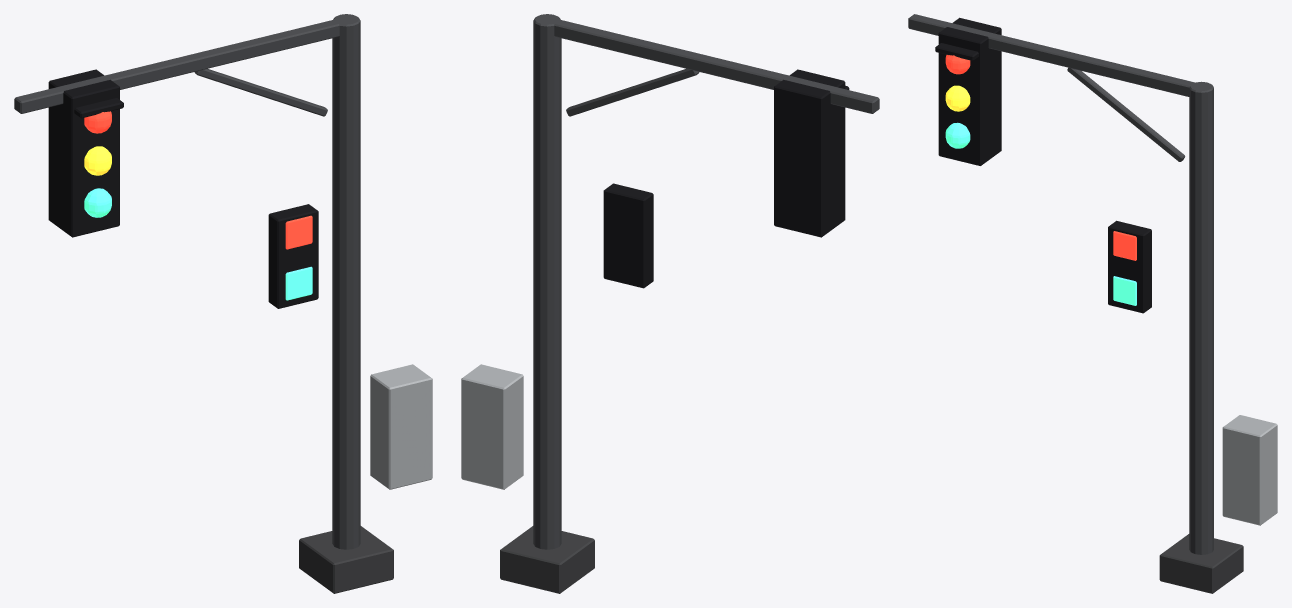
File: PRP_TrafficLight_ML_v001.glb
The picture shows the model from 3 angles, left to right: view 1: azimuth 30°, elevation 25°; view 2: azimuth 150°, elevation 25°; view 3: azimuth 330°, elevation 25°; orthographic projection. The views are drawn at different scales.
Visible parts, largest first — view 1: PRP_TrafficLight_ML_v001; view 2: PRP_TrafficLight_ML_v001; view 3: PRP_TrafficLight_ML_v001.
Part boxes in pixels (x1,y1,x2,y2): PRP_TrafficLight_ML_v001: (14,14,432,593); PRP_TrafficLight_ML_v001: (461,14,879,593); PRP_TrafficLight_ML_v001: (908,14,1277,593).
Bounding box in the file's own units: 3.33 × 4.35 × 0.5415.
